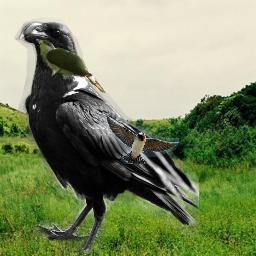Crow: (14, 17, 199, 253)
Cuckoo: (35, 39, 106, 93)
Swallow: (105, 114, 179, 164)
